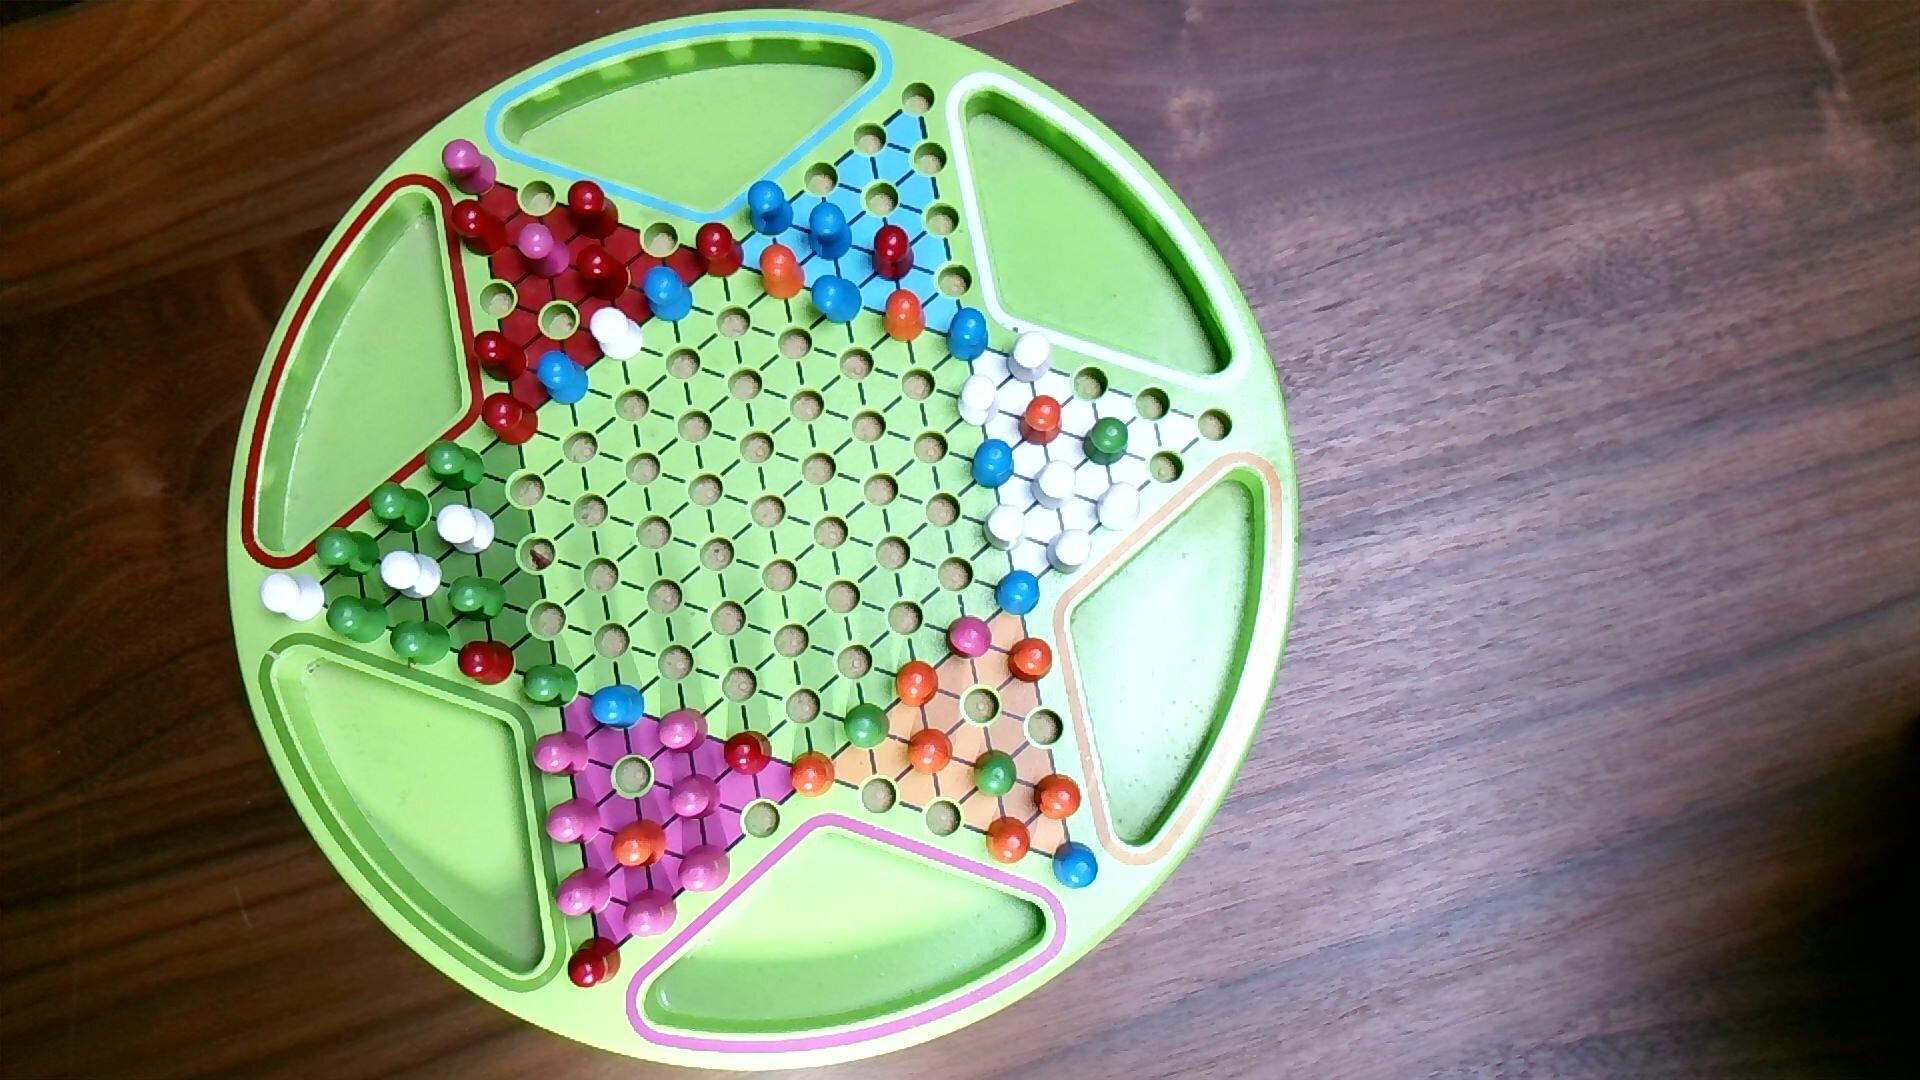B: (640, 265, 695, 324), (535, 349, 589, 407), (808, 274, 865, 327), (746, 179, 796, 239), (588, 683, 647, 733), (807, 200, 855, 262), (944, 305, 992, 365), (969, 436, 1015, 492), (1051, 840, 1100, 891), (993, 568, 1042, 618)
G: (367, 479, 433, 535), (314, 525, 382, 579), (423, 438, 487, 495), (324, 593, 392, 646), (390, 618, 454, 669), (447, 574, 508, 625), (521, 661, 580, 709), (1083, 415, 1131, 469), (972, 746, 1019, 800), (843, 702, 891, 752)
O: (611, 818, 669, 872), (1015, 392, 1065, 450), (758, 243, 807, 302), (1033, 771, 1084, 824), (884, 287, 928, 345), (789, 749, 837, 800), (985, 815, 1033, 866), (1007, 637, 1055, 687), (907, 727, 955, 777), (894, 659, 940, 709)
R: (450, 199, 510, 258), (564, 179, 621, 241), (480, 392, 541, 448), (575, 244, 632, 303), (473, 328, 530, 385), (566, 936, 622, 992), (694, 222, 746, 280), (458, 640, 516, 687), (872, 224, 916, 284), (723, 729, 774, 777)
R2: (440, 138, 498, 198), (516, 222, 572, 280), (554, 866, 615, 919), (622, 887, 679, 940), (676, 843, 733, 895), (531, 729, 591, 779), (654, 705, 711, 757), (545, 796, 603, 847), (669, 771, 723, 822), (945, 615, 994, 662)
W: (378, 549, 444, 603), (258, 572, 327, 624), (435, 502, 497, 558), (588, 306, 646, 363), (1005, 328, 1054, 386), (1029, 459, 1079, 513), (1096, 480, 1143, 535), (957, 373, 1002, 429), (1046, 527, 1095, 578), (982, 502, 1030, 554)
